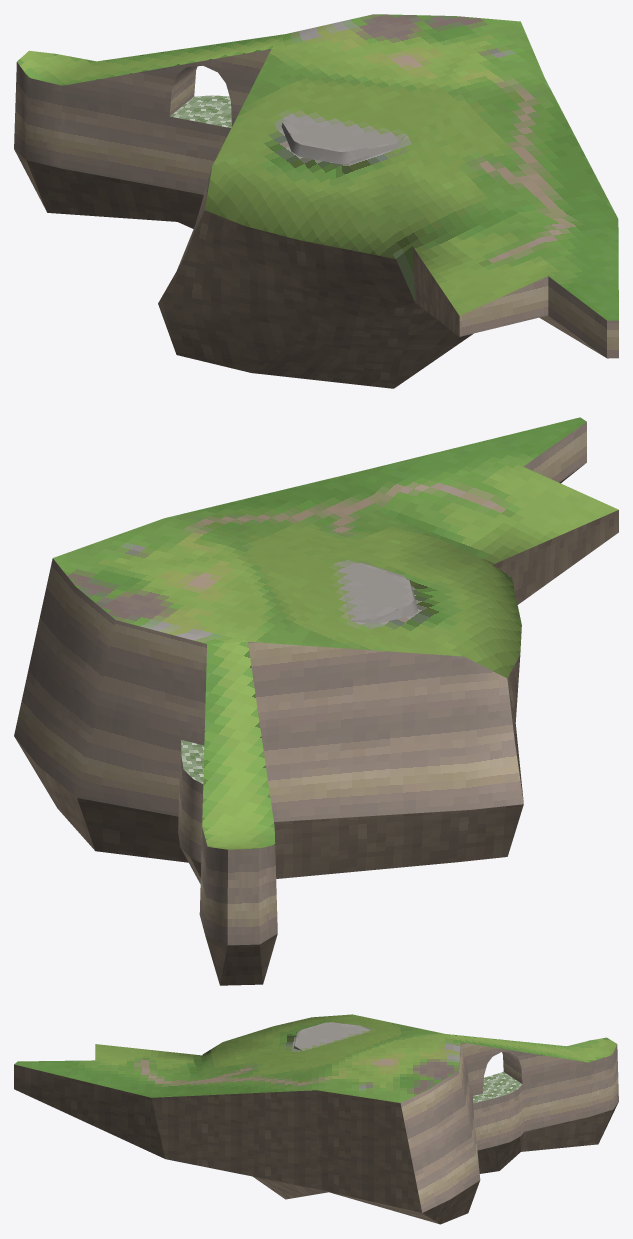
File: 059d_The_Old_Ranch.glb
The picture shows the model from 3 angles, top to bottom: view 1: azimuth 30°, elevation 25°; view 2: azimuth 150°, elevation 25°; view 3: azimuth 270°, elevation 25°; orthographic projection. The views are drawn at different scales.
Parts seen in each view (by area): view 1: part_0; view 2: part_0; view 3: part_0.
Boxes of the visible parts, <box> form: part_0: <box>14,14,618,388</box>; part_0: <box>14,417,618,985</box>; part_0: <box>14,1014,618,1224</box>.
Bounding box in the file's own units: 151 × 86.21 × 286.
1 material, 1 textured.
